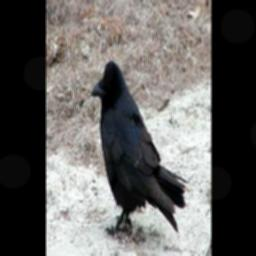Crow: (92, 58, 187, 238)
